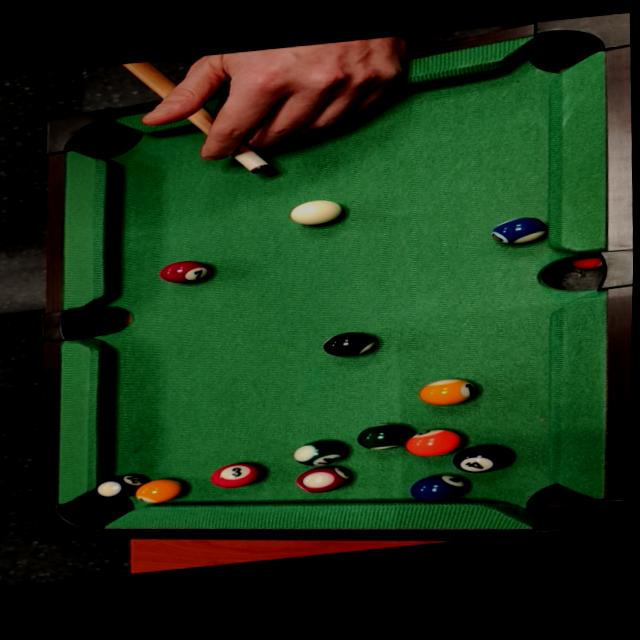cue ball: (286, 196, 345, 227)
other: (402, 466, 472, 506), (398, 424, 468, 461), (449, 438, 520, 474), (351, 417, 414, 454), (489, 212, 553, 248), (292, 461, 356, 495), (93, 466, 151, 502), (291, 433, 352, 467), (412, 375, 476, 407), (320, 326, 381, 358), (206, 459, 268, 490), (132, 473, 188, 506), (153, 255, 209, 286)
